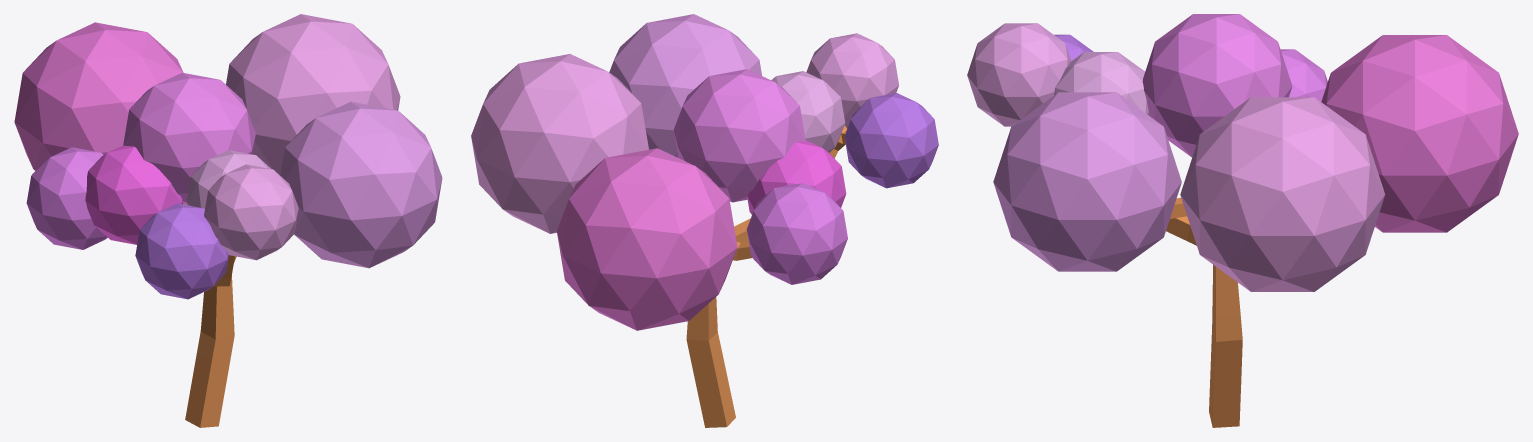
Rendered from tree2.gltf.
3 renders of one model, left to right at view 1: azimuth 30°, elevation 25°; view 2: azimuth 150°, elevation 25°; view 3: azimuth 270°, elevation 25°, orthographic. The views are drawn at different scales.
Parts seen in each view (by area): view 1: Cube; view 2: Cube; view 3: Cube.
Boxes of the visible parts, x1,y1,x2,y2 form: Cube: (14, 14, 442, 427); Cube: (471, 14, 938, 427); Cube: (967, 14, 1518, 427).
Bounding box in the file's own units: 6.27 × 5.98 × 7.56.
